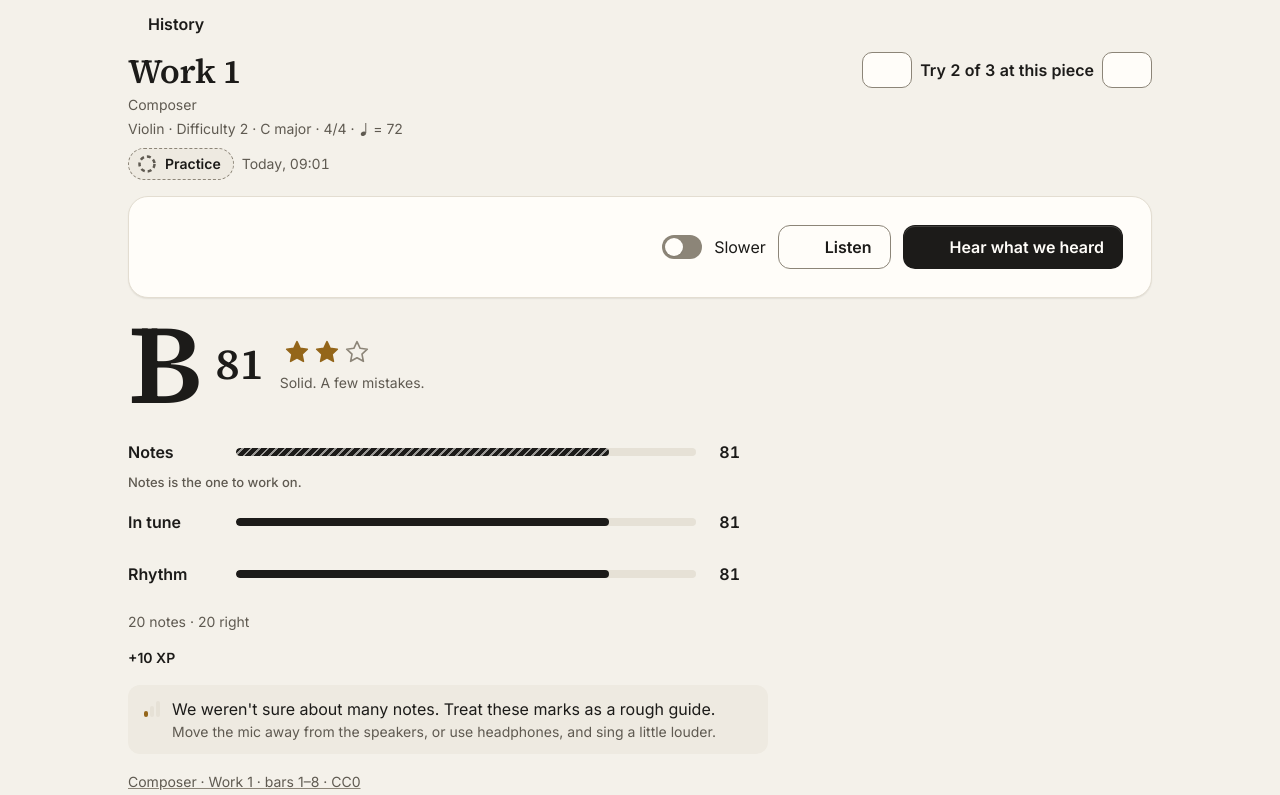
round 2: try detail › says "We didn't hear any notes" when there is nothing to play
Click the button with test id "hear-button". click: click(1013, 247)
box: [902, 225, 1123, 269]
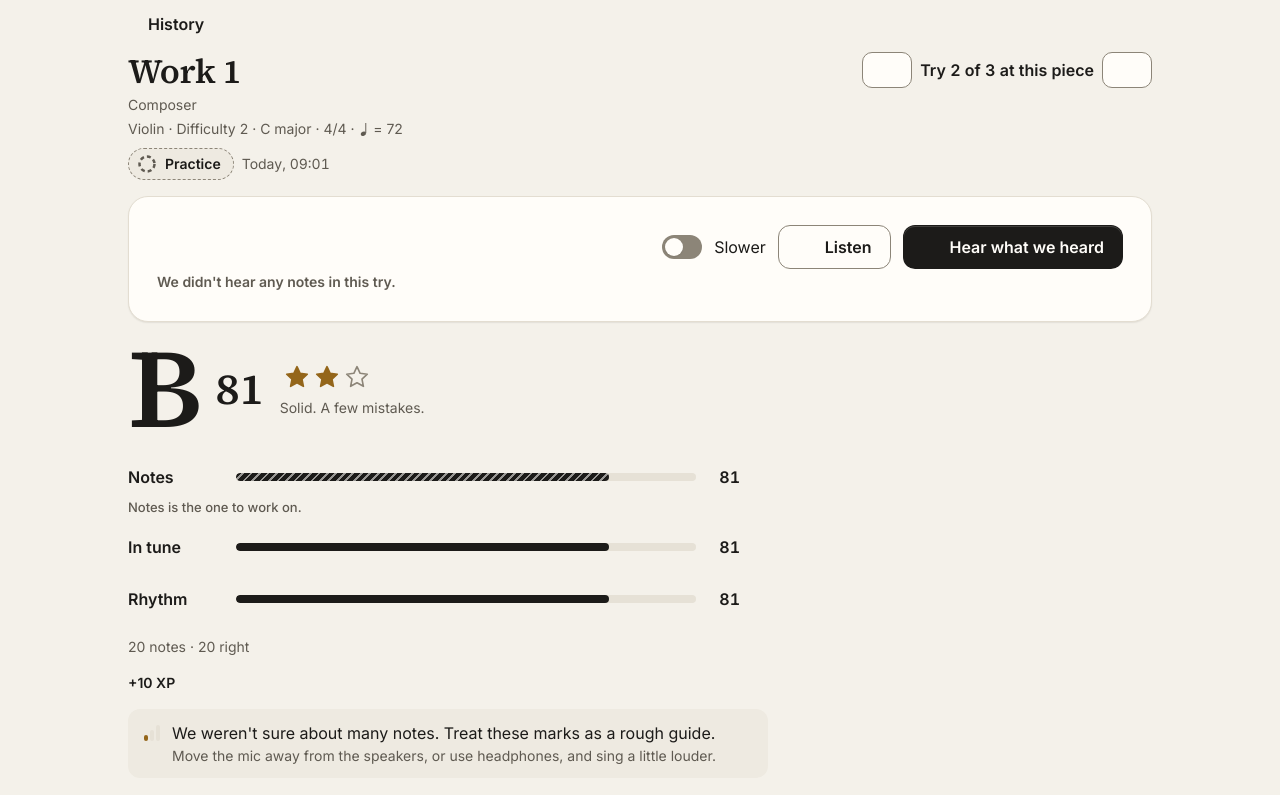
Result: the element with test id "fake-caption-line" reads "We didn't hear any notes in this try." at [157, 273, 396, 290]
